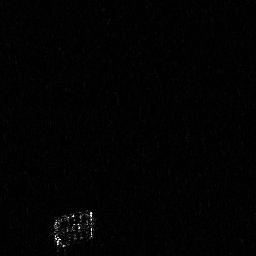ship: (51, 208, 95, 253)
